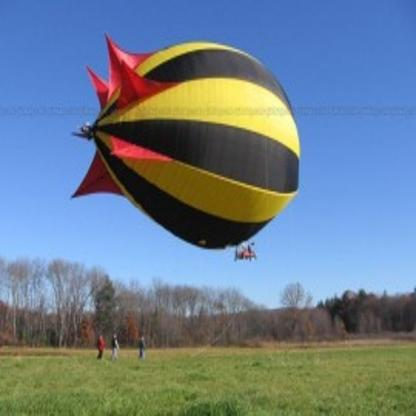Airship: (71, 27, 305, 272)
